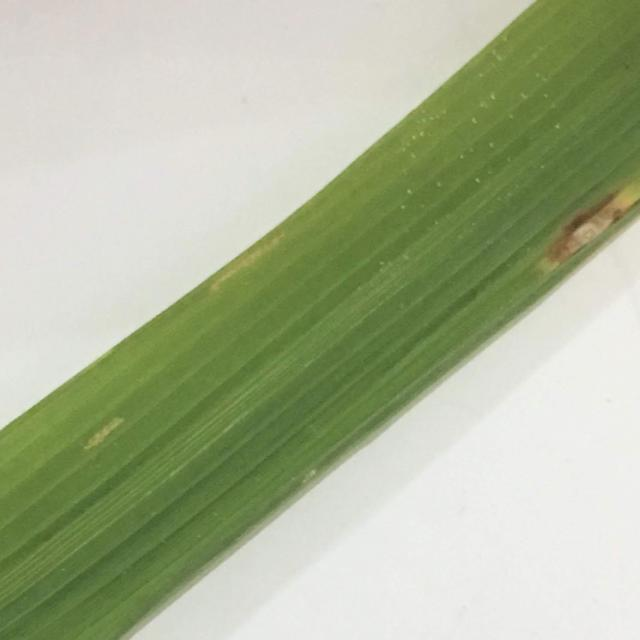Blast: (560, 190, 621, 258)
